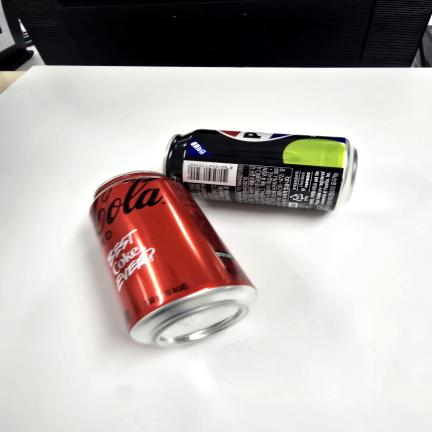can_coke_zero: (86, 167, 261, 350)
can_pepsi_zero: (166, 131, 362, 212)
